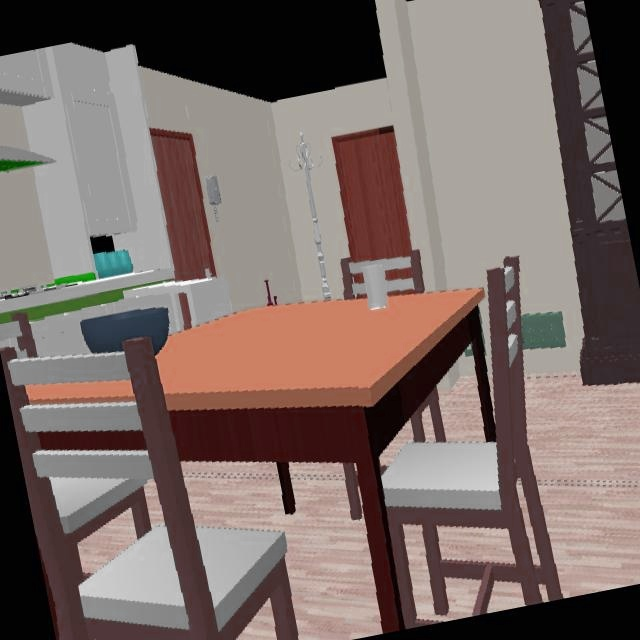bookshelf: (539, 0, 640, 385)
cabinet: (0, 43, 138, 276)
chair: (0, 339, 298, 640), (383, 256, 563, 625), (341, 250, 424, 300)
countertop: (0, 270, 173, 324)
stove: (0, 284, 61, 300)
table: (157, 290, 495, 631), (27, 381, 133, 404), (40, 431, 145, 450)
